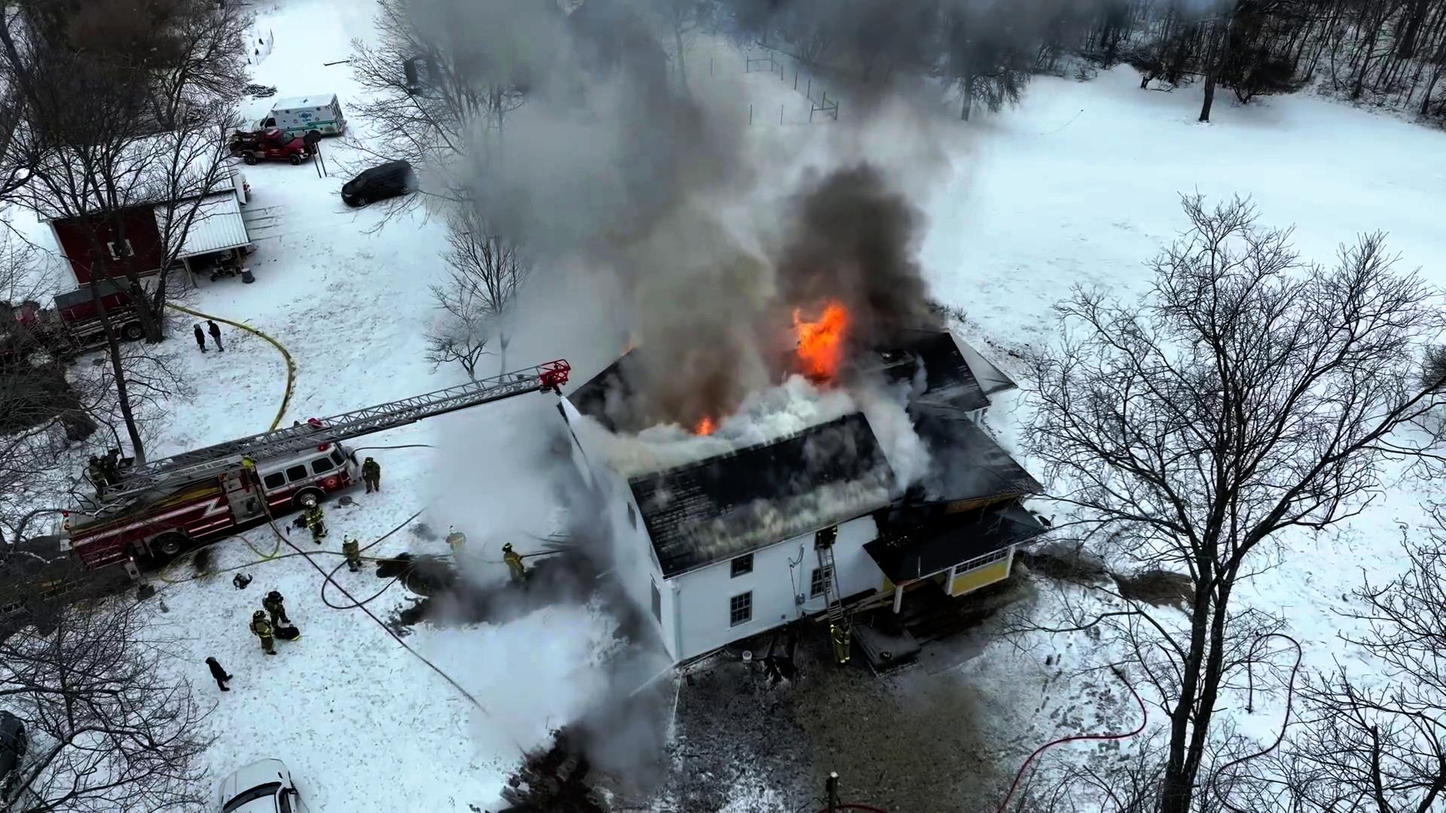fire: (782, 298, 847, 381)
smoke: (810, 166, 936, 285)
